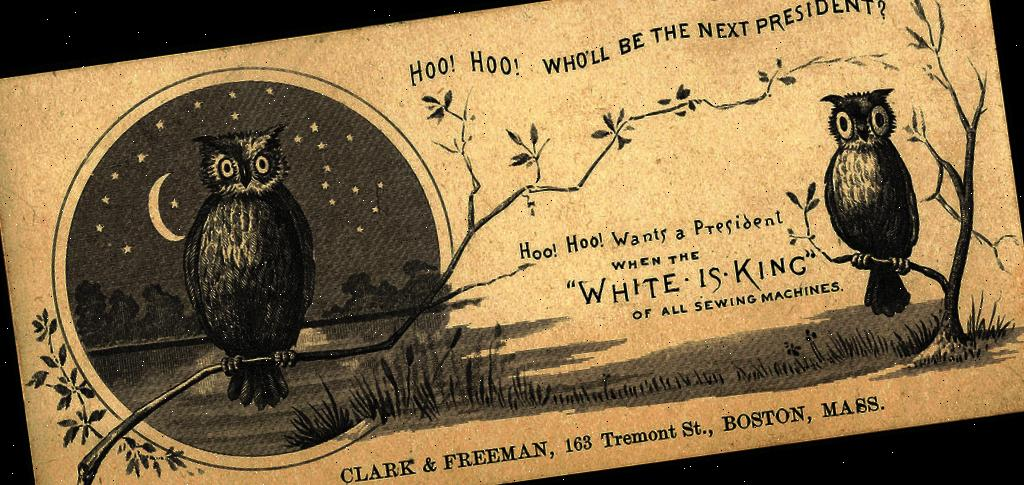Owl: (163, 119, 330, 418), (810, 85, 933, 322)
